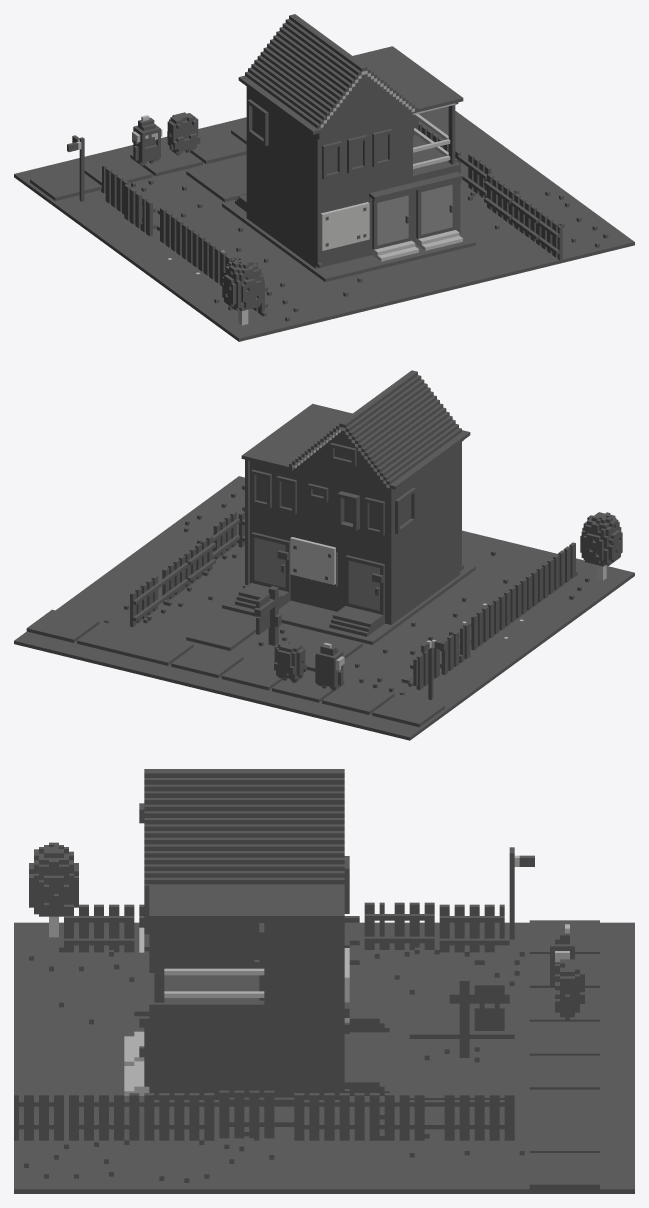
Rendered from scene_house7.obj.
3 views of the same model, one above another, from view 1: azimuth 30°, elevation 25°; view 2: azimuth 150°, elevation 25°; view 3: azimuth 270°, elevation 25° (orthographic). The views are drawn at different scales.
Bounding box in the file's own units: 126 × 60 × 124.
